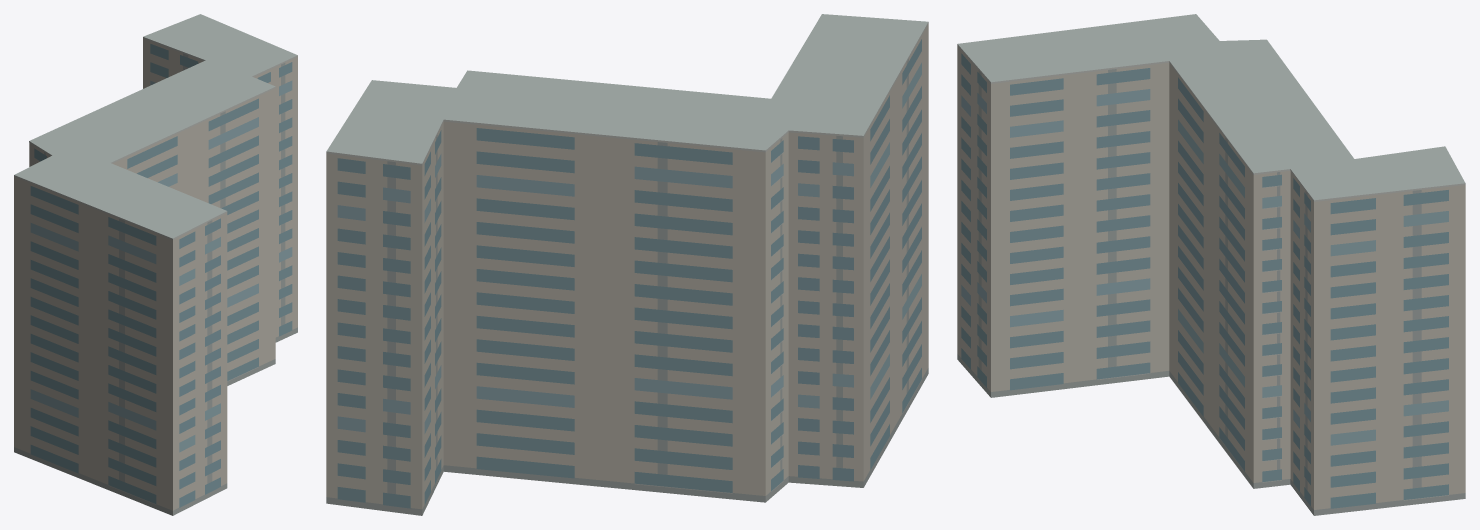
The model's file is residential-bfb5eca2-c1f1-45a0-ba56-d22680159738.glb.
3 views of the same model, side by side, from view 1: azimuth 30°, elevation 25°; view 2: azimuth 150°, elevation 25°; view 3: azimuth 270°, elevation 25° (orthographic). The views are drawn at different scales.
Visible parts, largest first — view 1: residential-bfb5eca2-c1f1-45a0-ba56-d22680159738.tmp; view 2: residential-bfb5eca2-c1f1-45a0-ba56-d22680159738.tmp; view 3: residential-bfb5eca2-c1f1-45a0-ba56-d22680159738.tmp.
Part boxes in pixels (x1,y1,x2,y2): residential-bfb5eca2-c1f1-45a0-ba56-d22680159738.tmp: [14, 14, 297, 515]; residential-bfb5eca2-c1f1-45a0-ba56-d22680159738.tmp: [326, 14, 928, 515]; residential-bfb5eca2-c1f1-45a0-ba56-d22680159738.tmp: [957, 14, 1465, 515].
Size of the model in its own units: 57.93 by 45.75 by 66.77.
